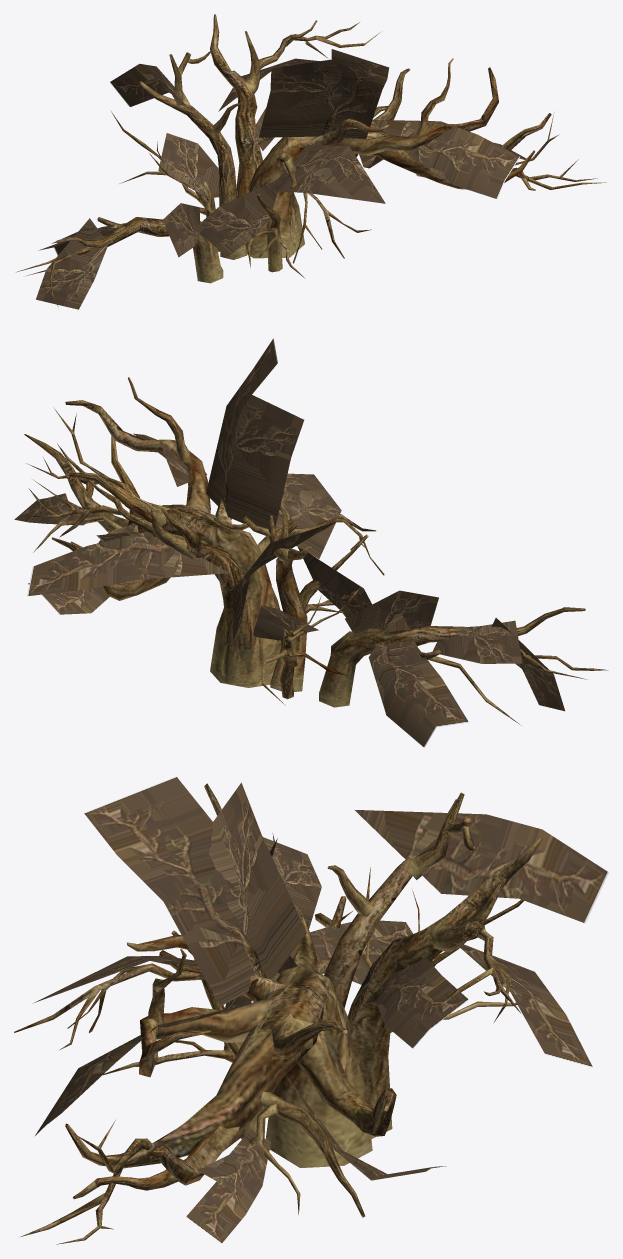
The model's file is S_Tree_Yellow045.FBX.
3 views of the same model, one above another, from view 1: azimuth 30°, elevation 25°; view 2: azimuth 150°, elevation 25°; view 3: azimuth 270°, elevation 25° (orthographic). The views are drawn at different scales.
Visible parts, largest first — view 1: S_Tree_Yellow045; view 2: S_Tree_Yellow045; view 3: S_Tree_Yellow045.
Part boxes in pixels (x1,y1,x2,y2): S_Tree_Yellow045: (16,14,606,309); S_Tree_Yellow045: (14,338,608,747); S_Tree_Yellow045: (14,776,608,1244).
Size of the model in its own units: 1867 by 1078 by 806.
